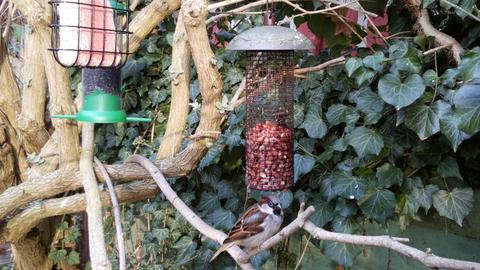sparrow: (208, 195, 284, 263)
